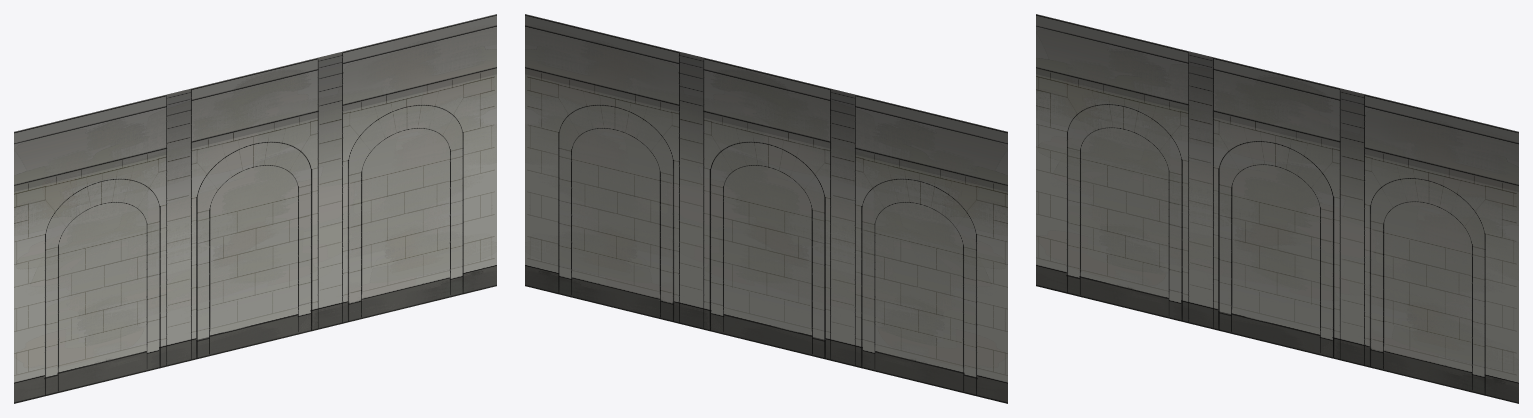
The model's file is BG1_castle1_2.fbx.
3 renders of one model, left to right at view 1: azimuth 30°, elevation 25°; view 2: azimuth 150°, elevation 25°; view 3: azimuth 330°, elevation 25°, orthographic.
Visible parts, largest first — view 1: pPlane2; view 2: pPlane2; view 3: pPlane2.
Part boxes in pixels (x1=…): pPlane2: x1=14, y1=14, x2=496, y2=403; pPlane2: x1=525, y1=14, x2=1007, y2=403; pPlane2: x1=1036, y1=14, x2=1518, y2=403.
Size of the model in its own units: 25 by 13.46 by 1.78e-15.
